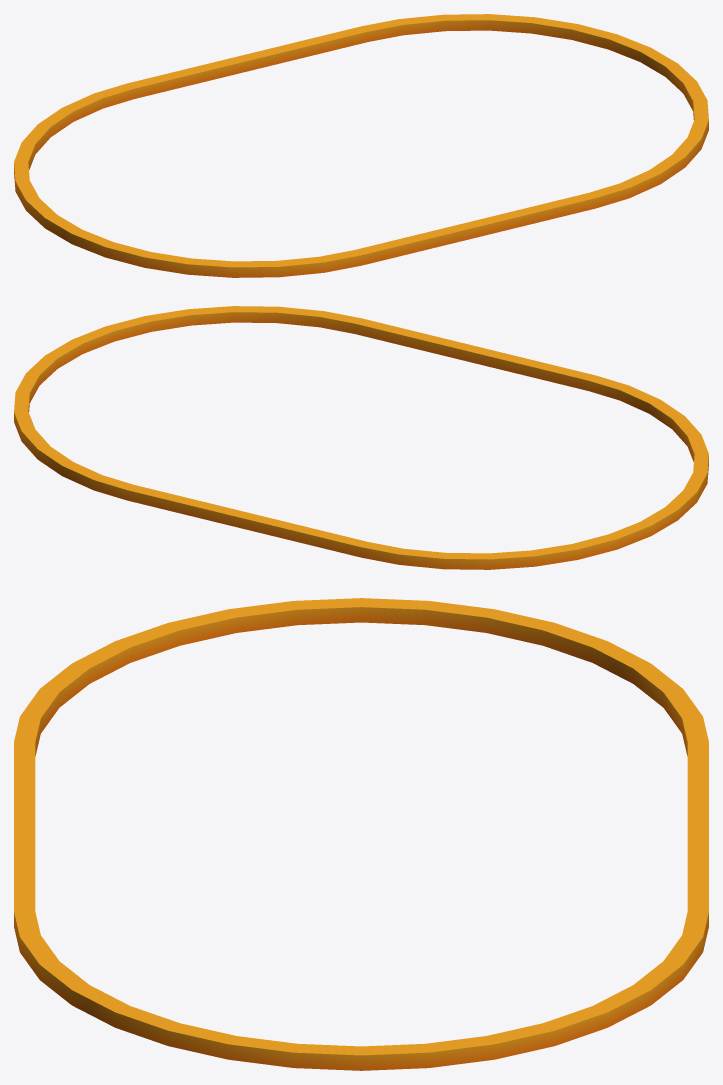
Rendered from Gound_Socket_06.fbx.
3 renders of one model, top to bottom at view 1: azimuth 30°, elevation 25°; view 2: azimuth 150°, elevation 25°; view 3: azimuth 270°, elevation 25°, orthographic. The views are drawn at different scales.
Parts seen in each view (by area): view 1: Obstacle_Gound_Socket_06; view 2: Obstacle_Gound_Socket_06; view 3: Obstacle_Gound_Socket_06.
Part boxes in pixels (bbox=[...]): Obstacle_Gound_Socket_06: bbox=[14, 14, 708, 277]; Obstacle_Gound_Socket_06: bbox=[14, 306, 708, 569]; Obstacle_Gound_Socket_06: bbox=[14, 598, 708, 1070].
Bounding box in the file's own units: 318 × 5 × 204.
Materials: 1 (1 with a texture image).
